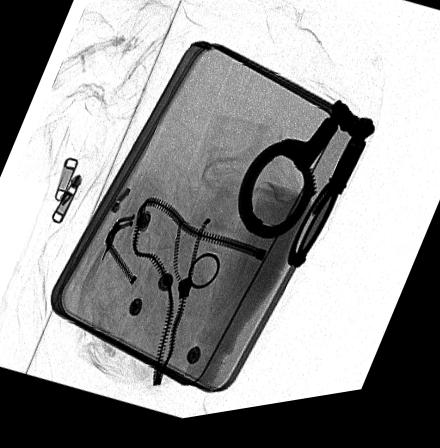HandCuffs: (238, 109, 376, 279)
